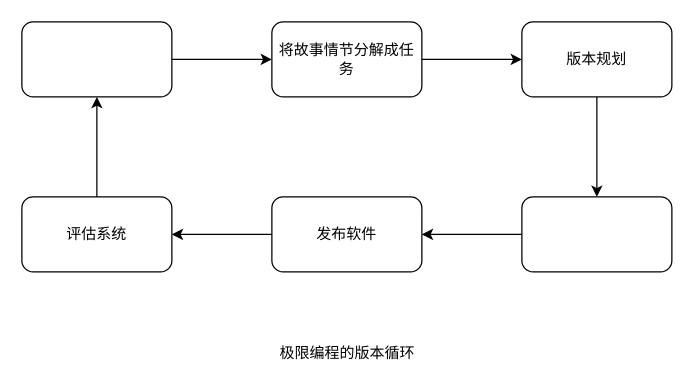
Some shapes in this 694 by 388 pixel diagram are drawn without their labels. The shapes that lost their labels are listed below. From the top down, each one's centre as x and y in pixels, then its label:
(96,59): 为此版本选择故事情节
(596,234): 开发/集成/测试软件
